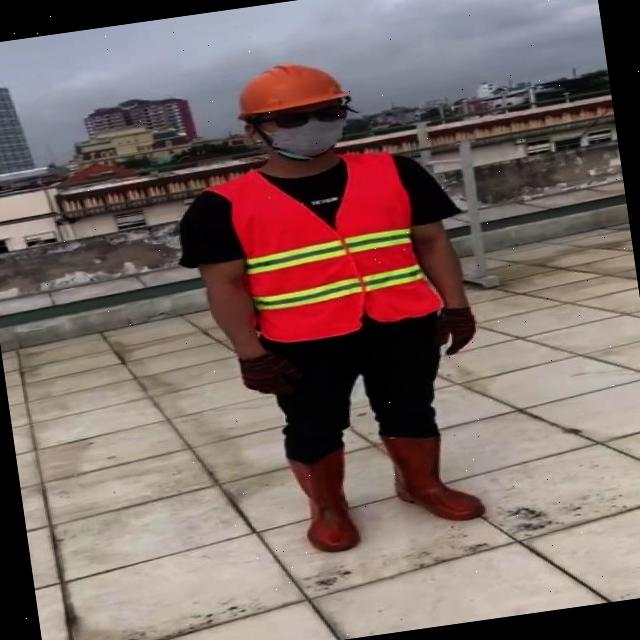boots: (380, 420, 488, 530), (283, 446, 367, 556)
helmet: (224, 48, 358, 122)
vest: (222, 148, 435, 350)
